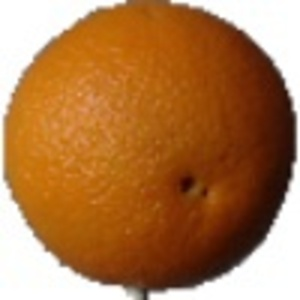laranja: (5, 4, 294, 297)
